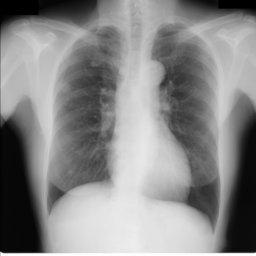left lobe: (152, 24, 219, 222)
right lobe: (48, 27, 121, 212)
